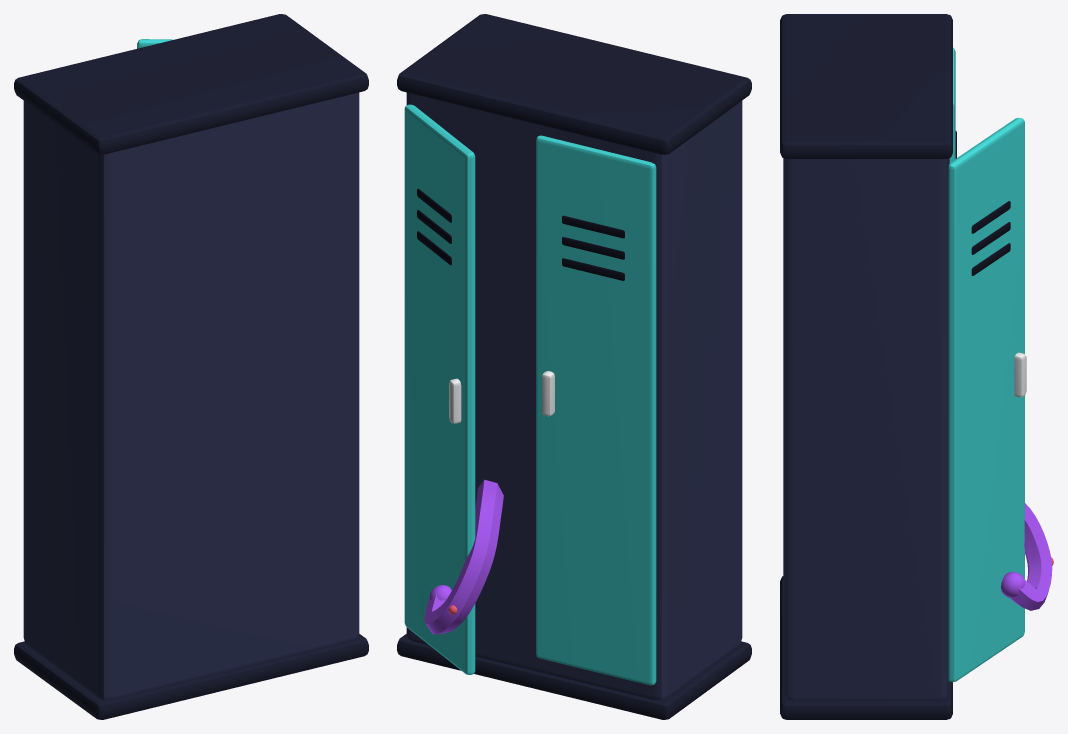
Rendered from locker.glb.
3 renders of one model, left to right at view 1: azimuth 30°, elevation 25°; view 2: azimuth 150°, elevation 25°; view 3: azimuth 270°, elevation 25°, orthographic.
Parts seen in each view (by area): view 1: Body; view 2: Body; view 3: Body.
Part boxes in pixels (<box>): Body: <box>14,14,368,719</box>; Body: <box>397,14,751,719</box>; Body: <box>780,14,1053,719</box>.
Size of the model in its own units: 0.94 by 1.92 by 0.823.
